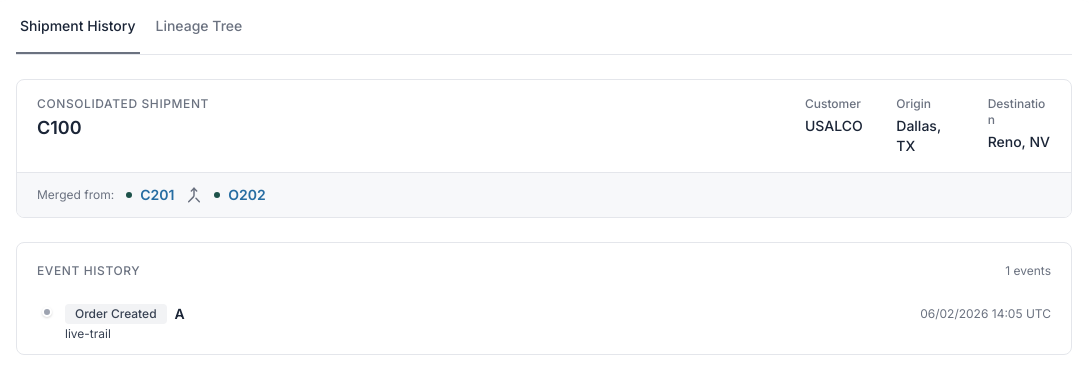
Test: HistoryTab — lineage › closable tab keeps the x inside .tab__content, no nested buttons
Click the button "Lineage Tree" at {"x": 199, "y": 35}, box [152,16,246,54]
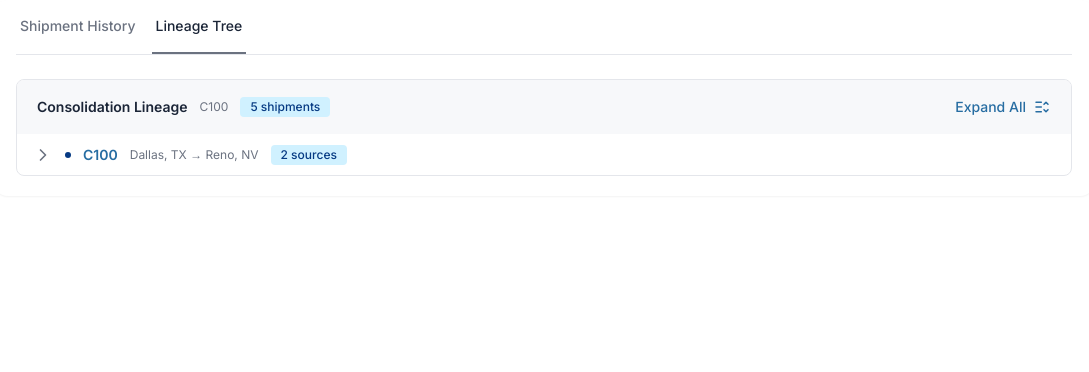
Click the button named "Expand C100" at {"x": 43, "y": 154}, box [33,144,53,164]
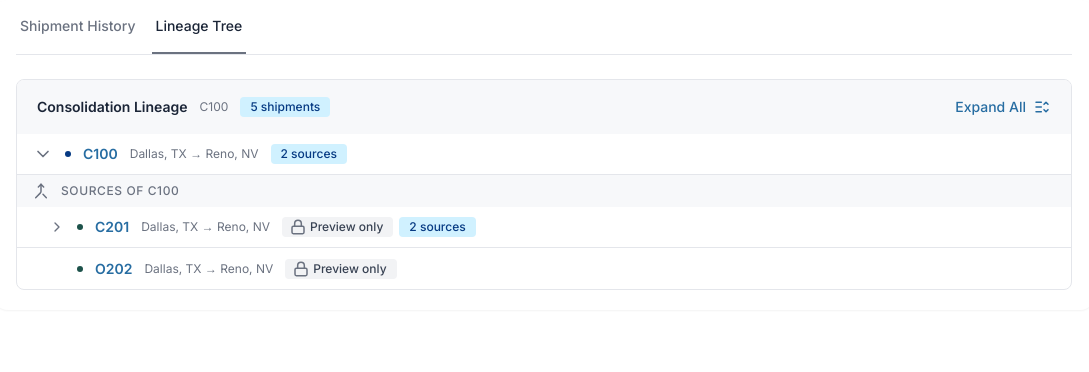
Click the button "C201" at {"x": 112, "y": 227}, box [95,217,129,237]
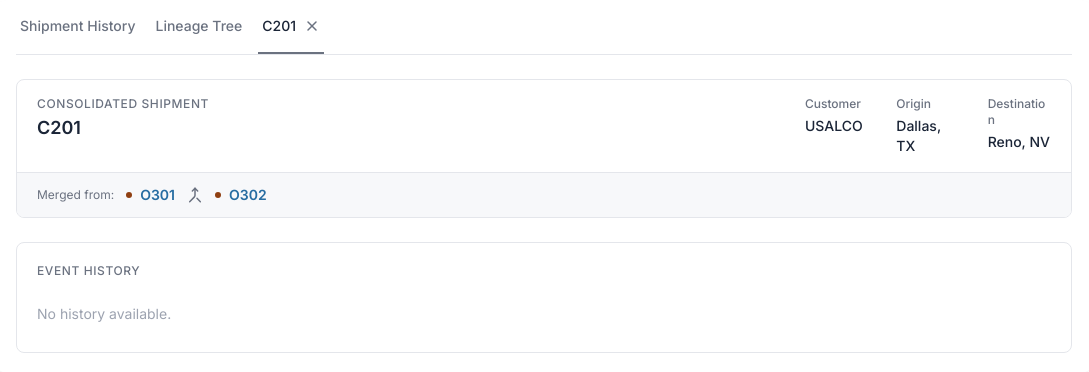
expect the element named "Close C201" is shown: met, box [262,16,320,36]
